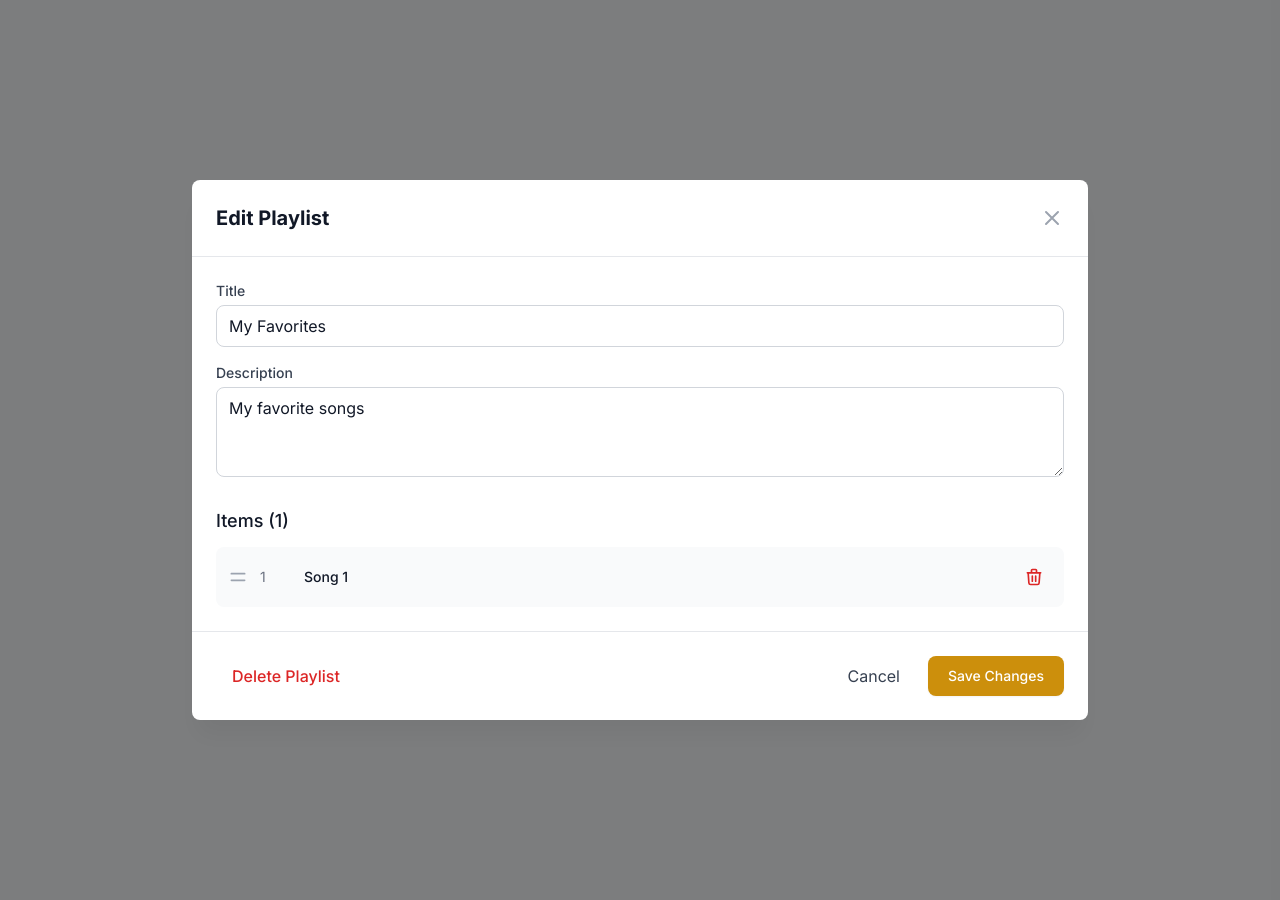
PlaylistEditor › should display error when removing item fails
Expected: the text "Song 1" is shown, [304, 568, 348, 585]
Click the button titled "Remove from playlist".
click(1034, 577)  # box [1016, 559, 1052, 595]
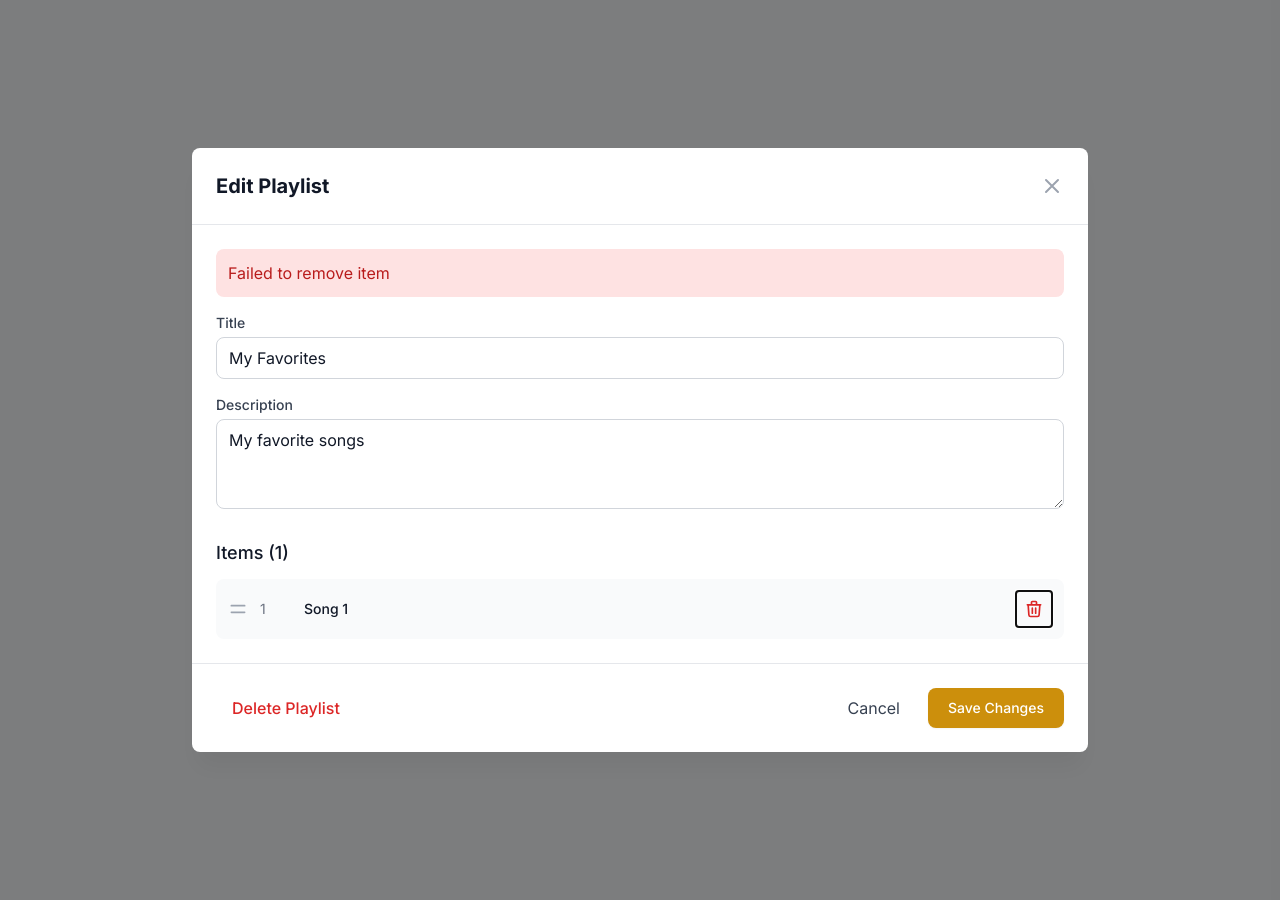
Result: the text "Failed to remove item" is shown at [216, 249, 1064, 297]
